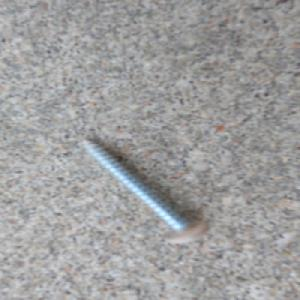Screw: (75, 135, 212, 246)
